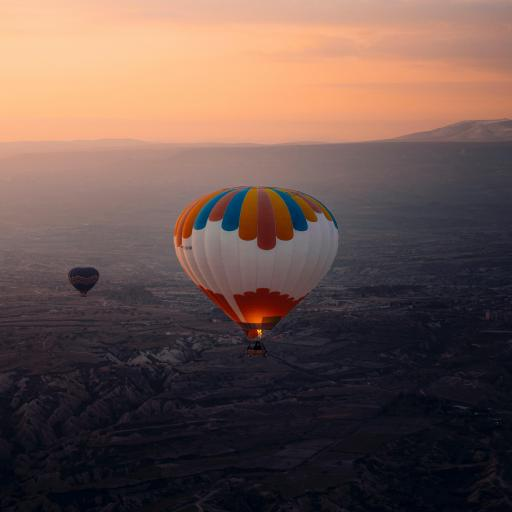hot air ballon: (177, 182, 342, 360), (60, 262, 108, 300)
